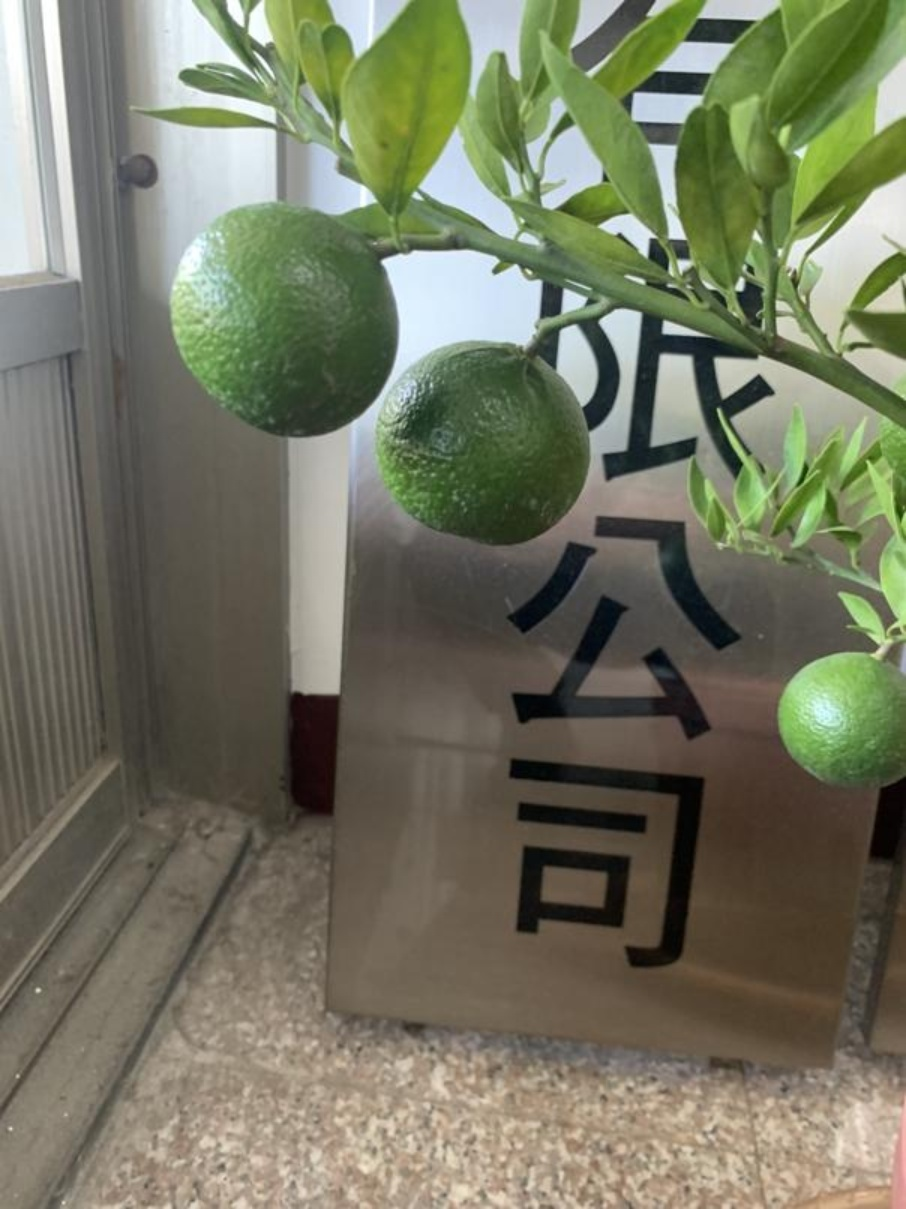Tangerine: (160, 185, 403, 441), (373, 326, 594, 548), (774, 647, 906, 791)
